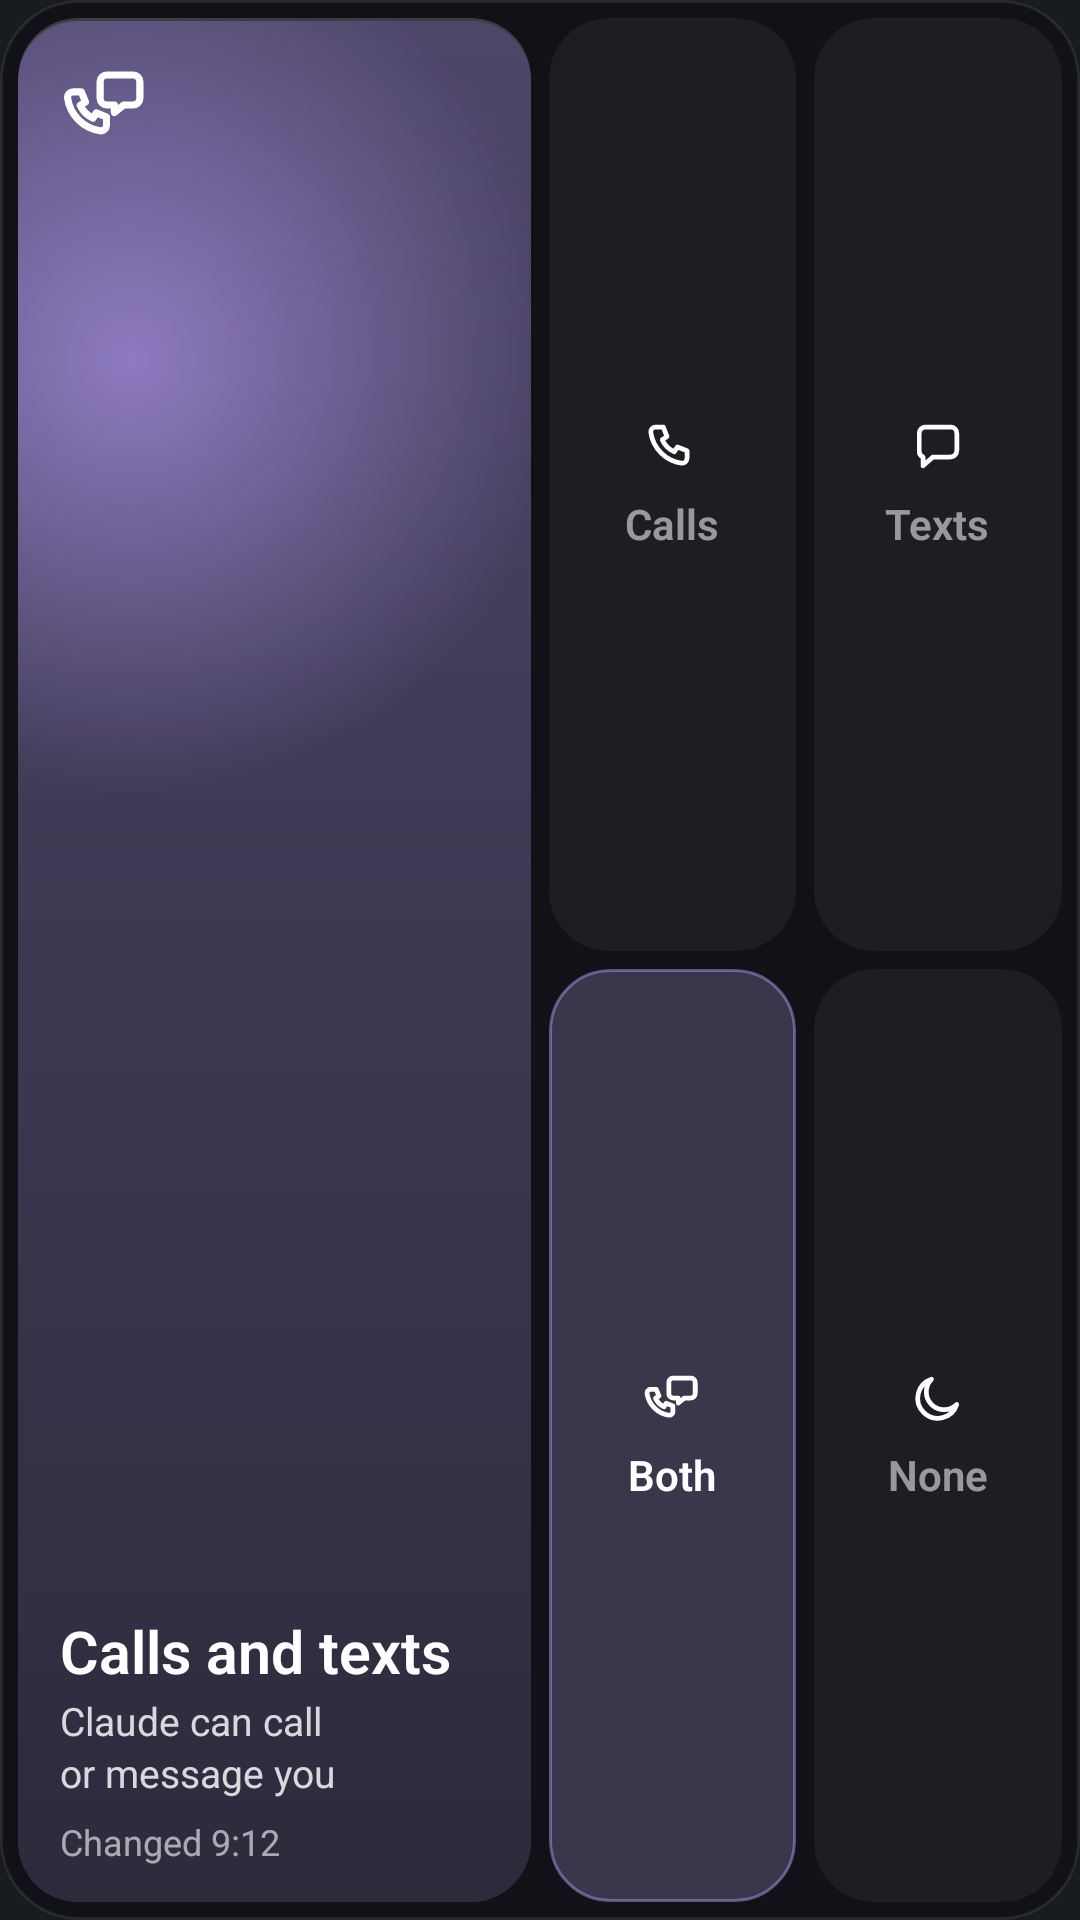

Named icons in this screenshot (1080 × 1920) and their centers, [x,y]:
glyph call: [669,445]
glyph text: [938,446]
